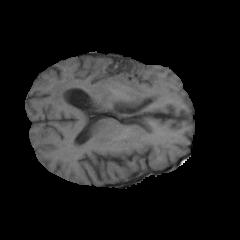glioma: (50, 61, 164, 107)
